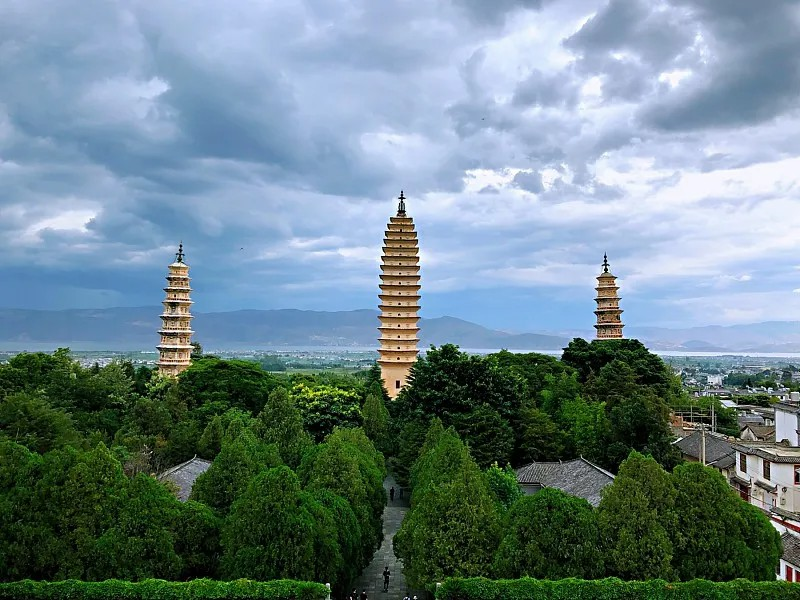ThreePagoda: (377, 191, 421, 399)
